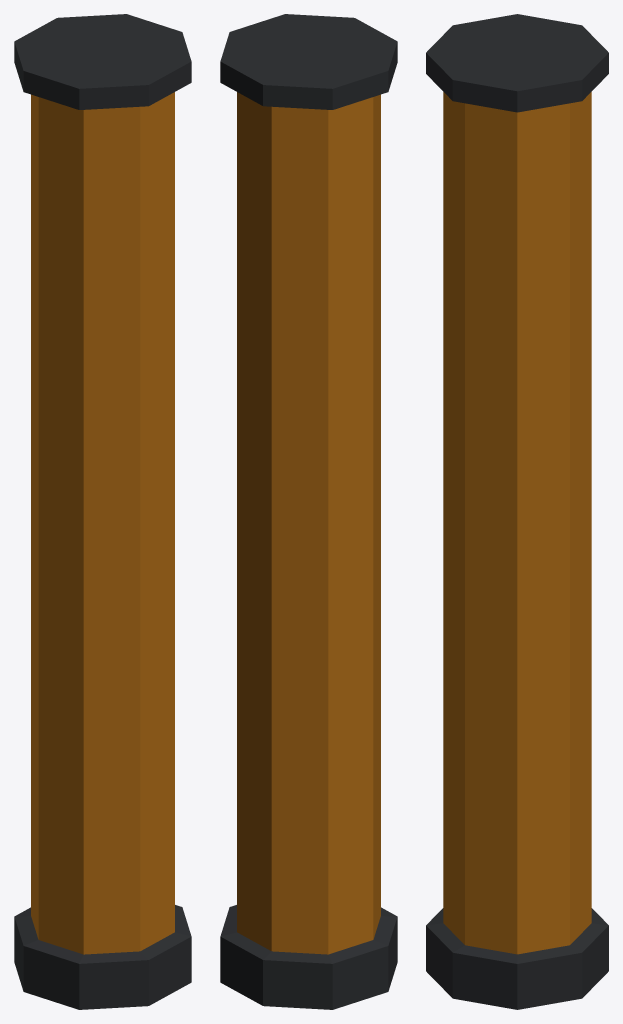
The model's file is SM_Prop_NeonLight_Large_03.fbx.
3 renders of one model, left to right at view 1: azimuth 30°, elevation 25°; view 2: azimuth 150°, elevation 25°; view 3: azimuth 270°, elevation 25°, orthographic.
Parts seen in each view (by area): view 1: SM_Prop_NeonLight_Large_03; view 2: SM_Prop_NeonLight_Large_03; view 3: SM_Prop_NeonLight_Large_03.
Part boxes in pixels (x1,y1,x2,y2): SM_Prop_NeonLight_Large_03: [14, 14, 191, 1009]; SM_Prop_NeonLight_Large_03: [220, 14, 397, 1009]; SM_Prop_NeonLight_Large_03: [426, 14, 608, 1009].
Size of the model in its own units: 68.01 by 377 by 68.01.
